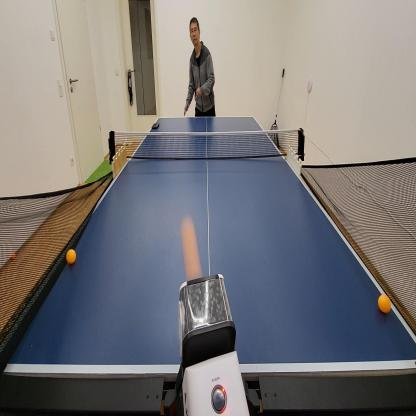Ball: (180, 216, 204, 282), (377, 292, 392, 315), (66, 247, 77, 266), (11, 251, 16, 261), (102, 182, 106, 188)
